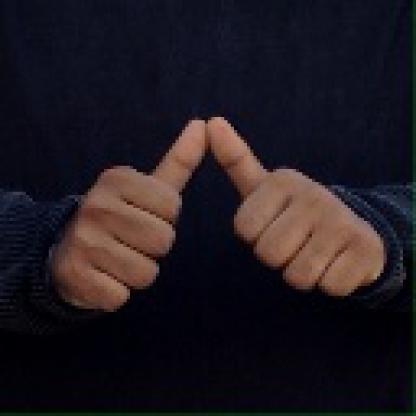A: (63, 108, 390, 308)
